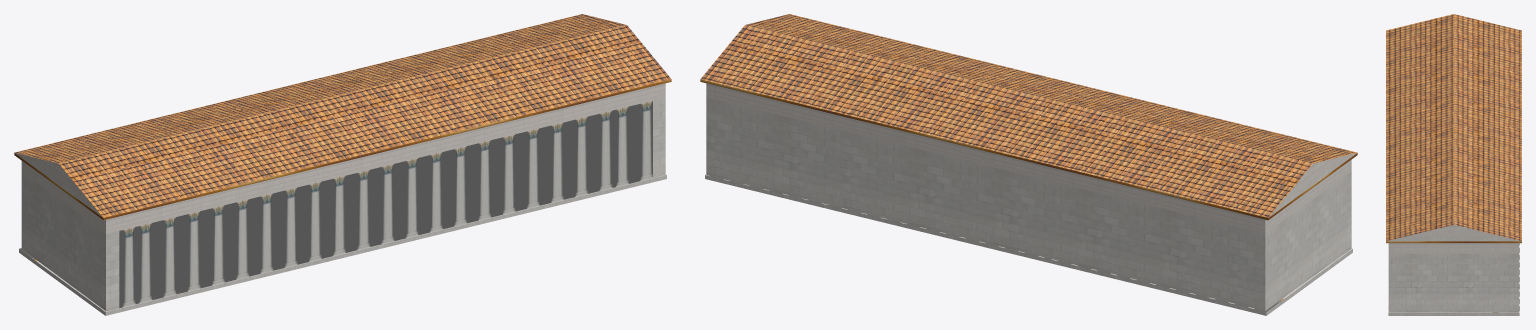
The model's file is Stoalow.fbx.
The picture shows the model from 3 angles, left to right: view 1: azimuth 30°, elevation 25°; view 2: azimuth 150°, elevation 25°; view 3: azimuth 270°, elevation 25°; orthographic projection. The views are drawn at different scales.
Parts seen in each view (by area): view 1: Group1; view 2: Group1; view 3: Group1.
Part boxes in pixels (x1,y1,x2,y2): Group1: (14, 14, 671, 315); Group1: (700, 14, 1357, 315); Group1: (1386, 14, 1521, 315).
Bounding box in the file's own units: 104866 × 21435 × 28530.
